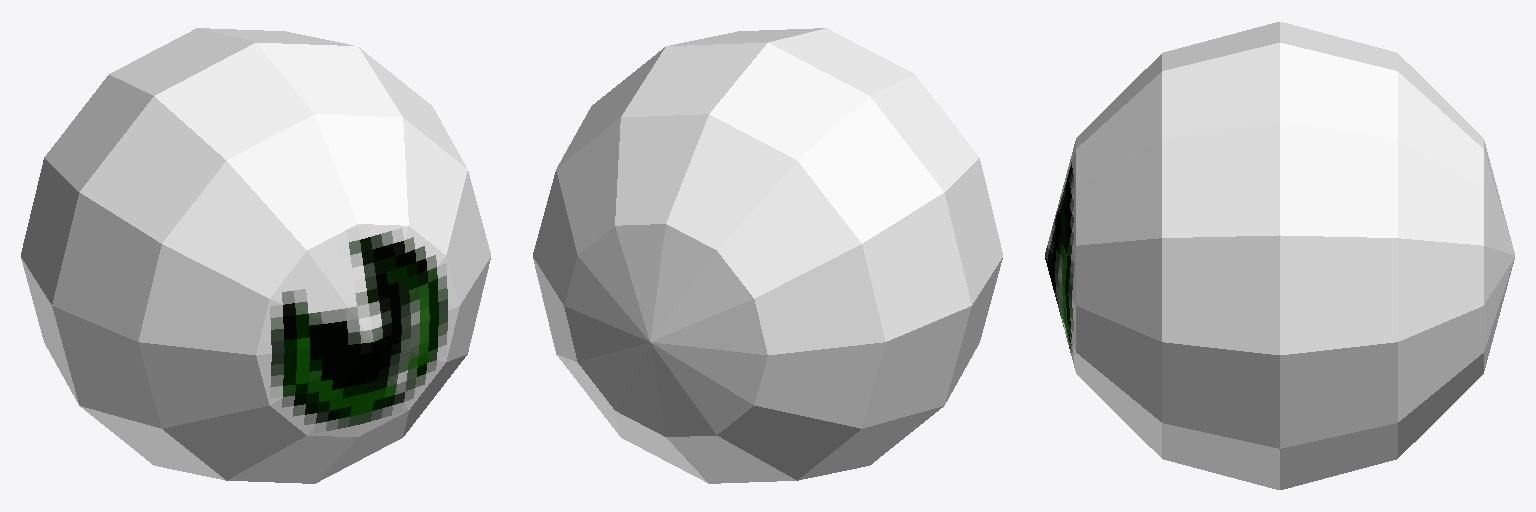
3 views of the same model, side by side, from view 1: azimuth 30°, elevation 25°; view 2: azimuth 150°, elevation 25°; view 3: azimuth 270°, elevation 25° (orthographic).
Visible parts, largest first — view 1: Eye; view 2: Eye; view 3: Eye.
Boxes of the visible parts, x1,y1,x2,y2 form: Eye: [21, 28, 490, 483]; Eye: [533, 28, 1002, 483]; Eye: [1045, 22, 1514, 489].
Size of the model in its own units: 7.87 by 7.87 by 7.87.
Materials: 1 (1 with a texture image).